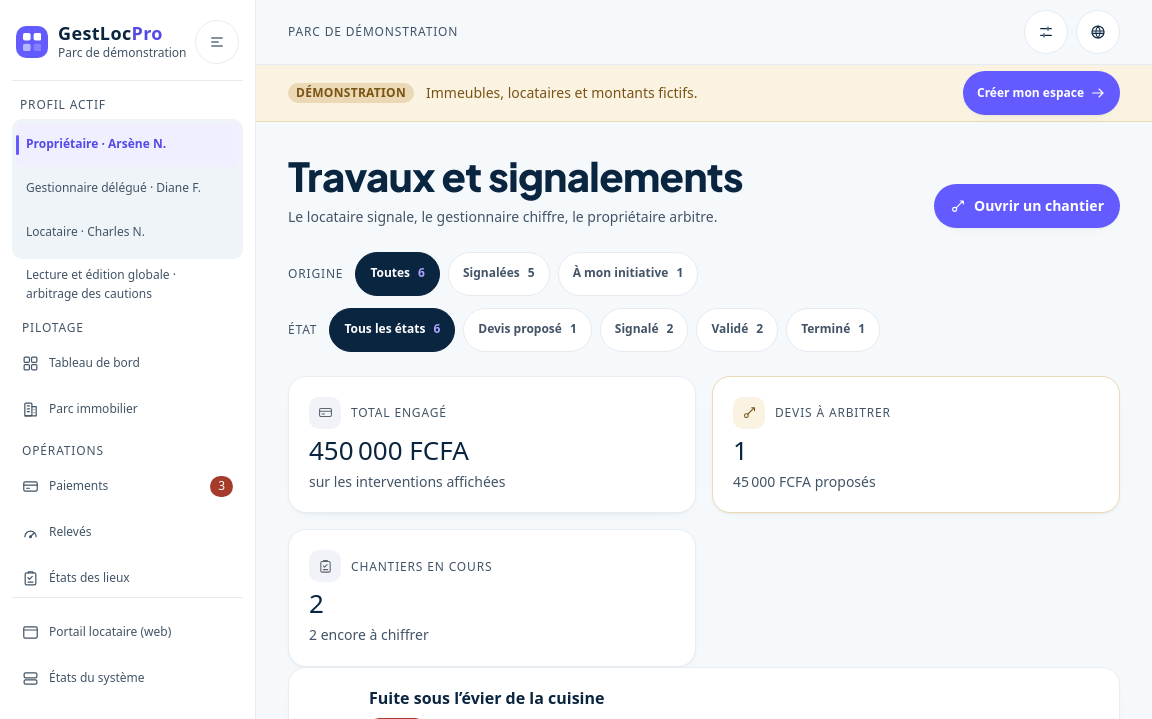
signalement par le locataire › refuse un signalement sans description, et n’ajoute rien
Click the radio button labelled "Locataire · Charles N." at point(85, 232), box [26, 223, 145, 240]
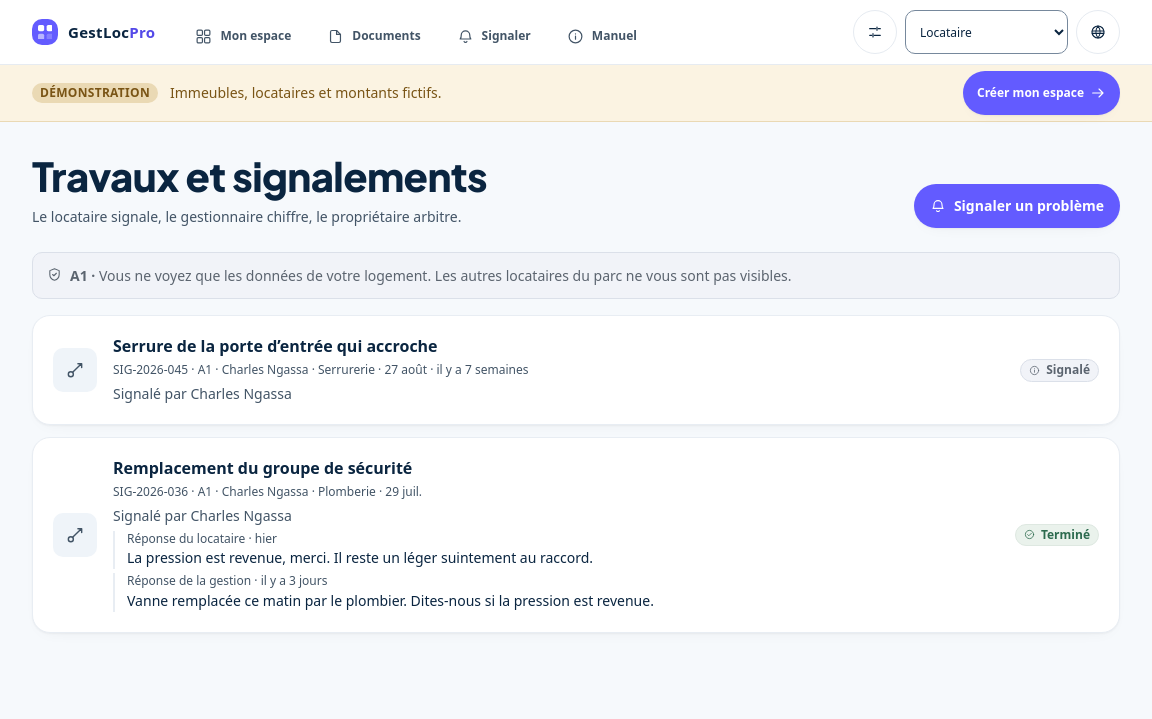
Click the button "Signaler un problème" at point(1017, 206), box [914, 184, 1120, 228]
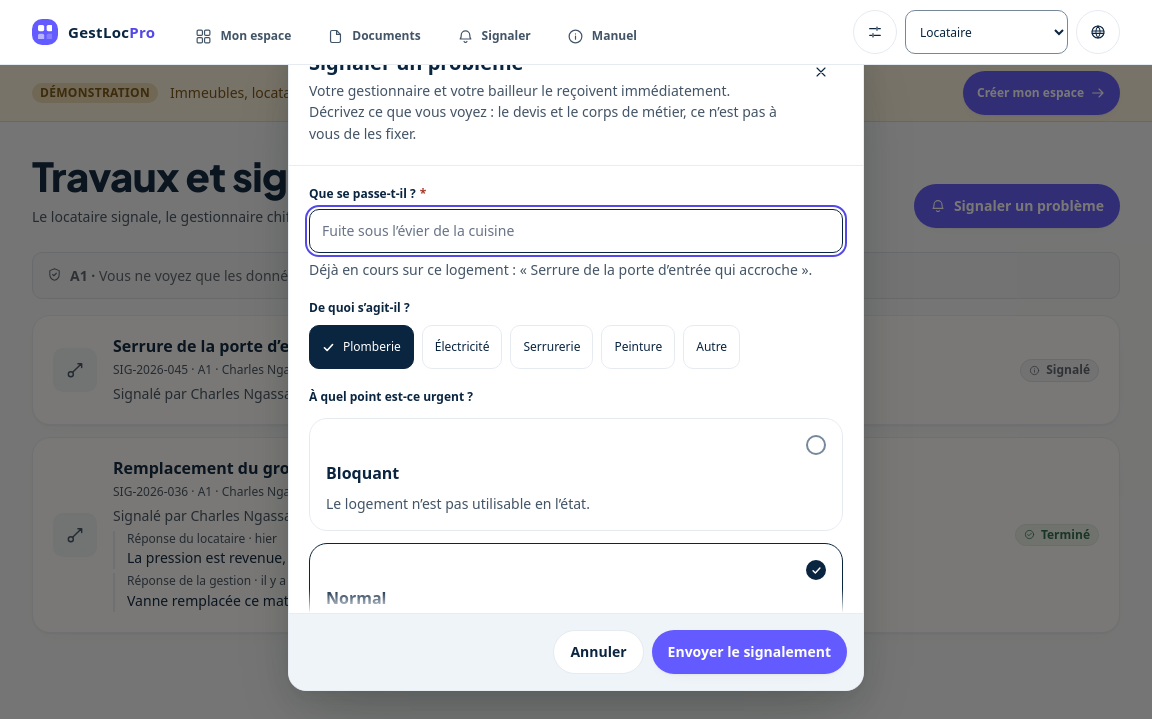
Click the button "Envoyer le signalement" at point(749, 652), box [652, 630, 847, 674]
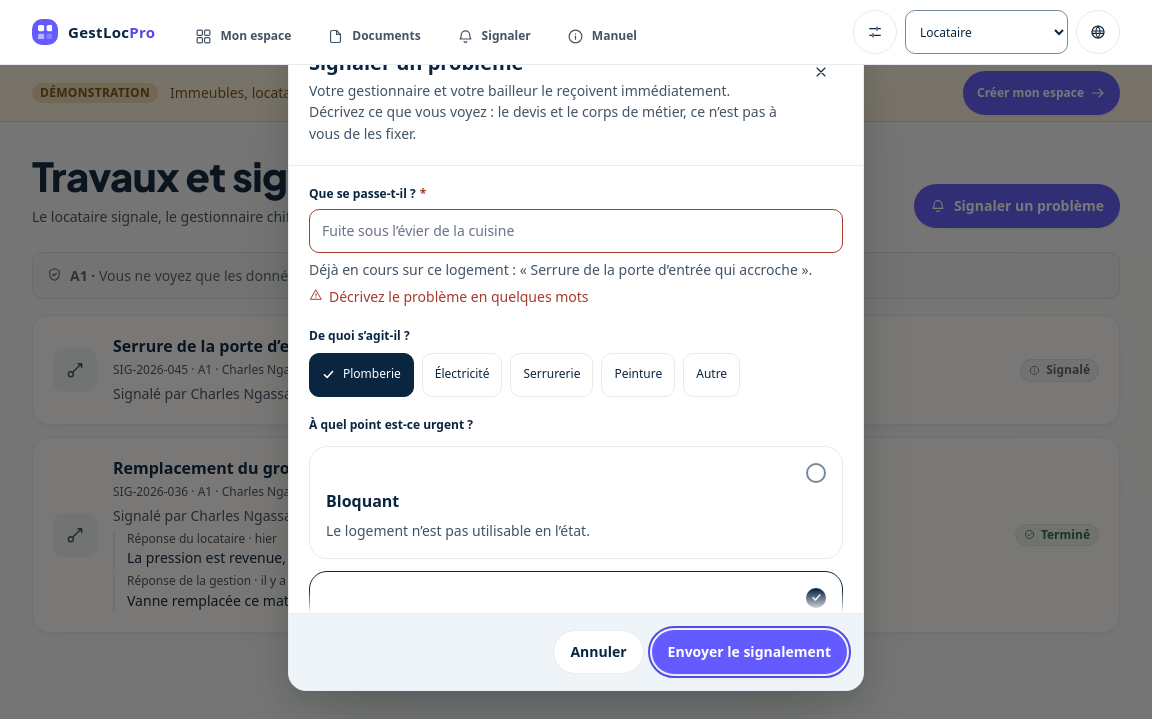
Now the dialog is shown, box [288, 29, 864, 691]
Now the text "Signalé" is shown once, box [1020, 359, 1099, 382]
Now the message "Décrivez le problème en quelques mots" is shown, box [309, 287, 589, 306]
